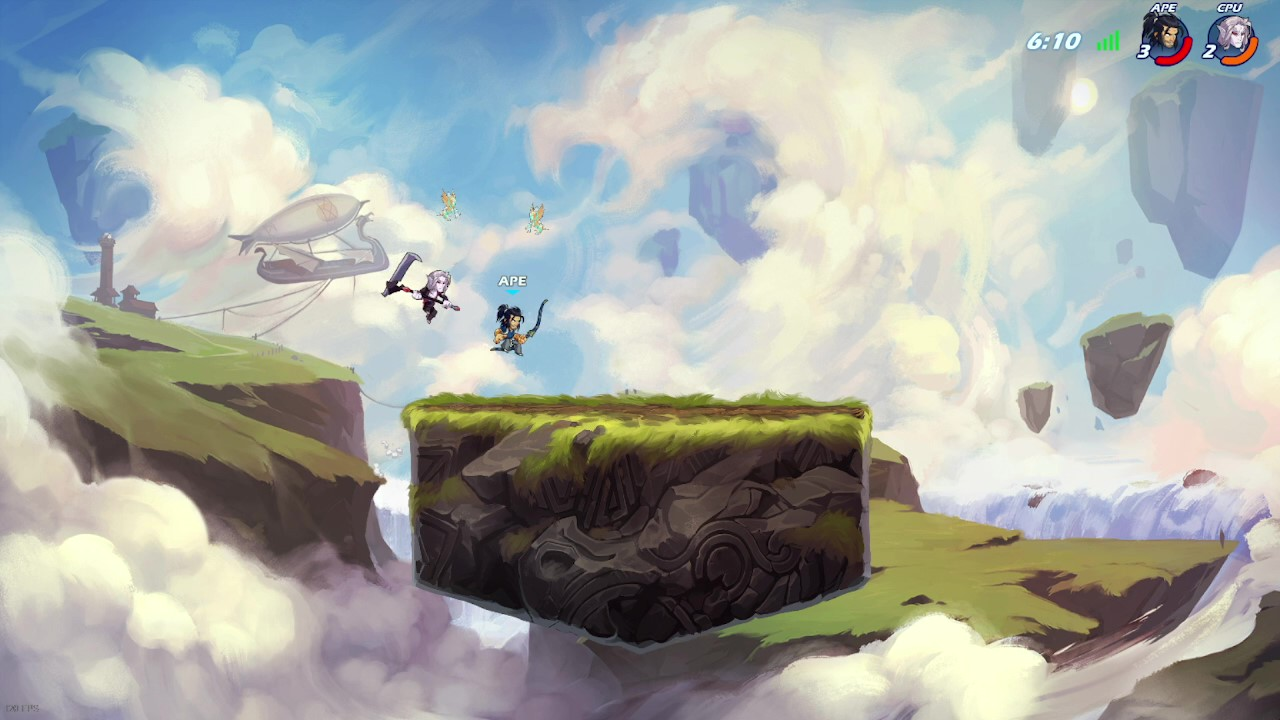koji: (493, 304, 527, 356)
koji_health_red: (1154, 15, 1193, 66)
koji_lives_3: (1136, 11, 1184, 59)
time_seconds_370: (1027, 32, 1082, 49)
volkov: (412, 270, 452, 324)
volkov_health_orange: (1220, 16, 1259, 66)
volkov_lives_2: (1202, 15, 1256, 59)
